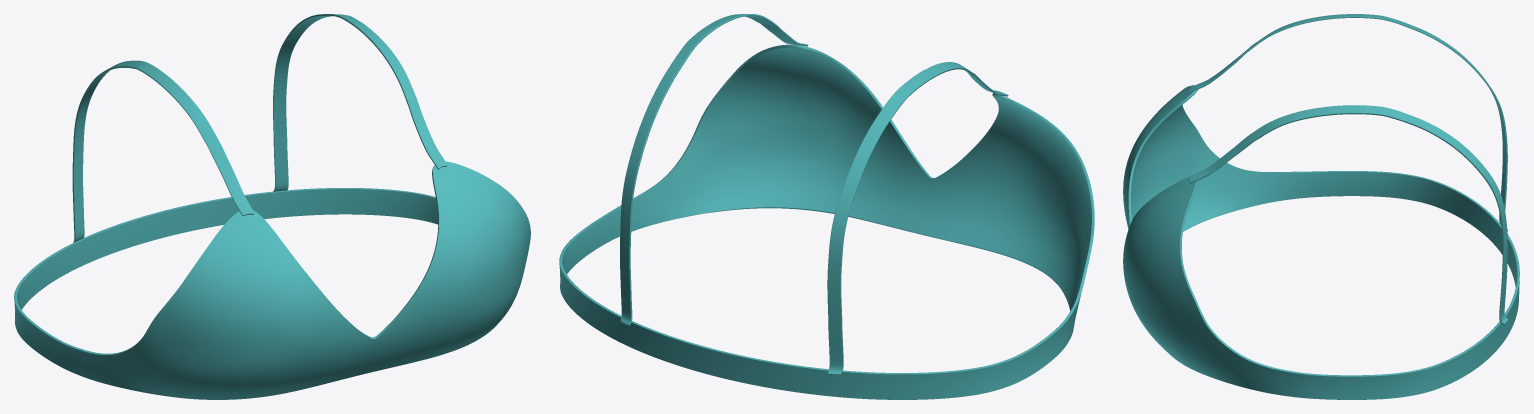
The model's file is Feminine-triangle-top.glb.
3 views of the same model, side by side, from view 1: azimuth 30°, elevation 25°; view 2: azimuth 150°, elevation 25°; view 3: azimuth 270°, elevation 25° (orthographic). The views are drawn at different scales.
Visible parts, largest first — view 1: Clothing / connected triangle201, Clothing / Triangle sewn strap201 1, Clothing / Triangle sewn strap201 -1; view 2: Clothing / connected triangle201, Clothing / Triangle sewn strap201 -1, Clothing / Triangle sewn strap201 1; view 3: Clothing / connected triangle201, Clothing / Triangle sewn strap201 1, Clothing / Triangle sewn strap201 -1.
Part boxes in pixels (x1=…): Clothing / connected triangle201: x1=14, y1=161, x2=530, y2=399; Clothing / Triangle sewn strap201 1: x1=273, y1=14, x2=447, y2=191; Clothing / Triangle sewn strap201 -1: x1=72, y1=60, x2=254, y2=242; Clothing / connected triangle201: x1=559, y1=44, x2=1094, y2=399; Clothing / Triangle sewn strap201 -1: x1=827, y1=62, x2=1008, y2=375; Clothing / Triangle sewn strap201 1: x1=620, y1=14, x2=807, y2=325; Clothing / connected triangle201: x1=1123, y1=85, x2=1519, y2=399; Clothing / Triangle sewn strap201 1: x1=1187, y1=105, x2=1508, y2=324; Clothing / Triangle sewn strap201 -1: x1=1187, y1=14, x2=1508, y2=231.
Bounding box in the file's own units: 0.5528 × 0.2978 × 0.4507.
